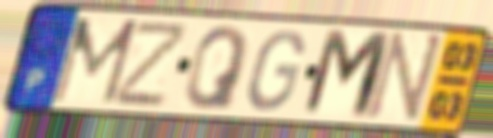G: (244, 28, 308, 114)
M: (298, 26, 397, 123), (48, 15, 143, 107)
N: (361, 29, 448, 128)
Q: (181, 23, 252, 113)
Z: (111, 20, 194, 109)
